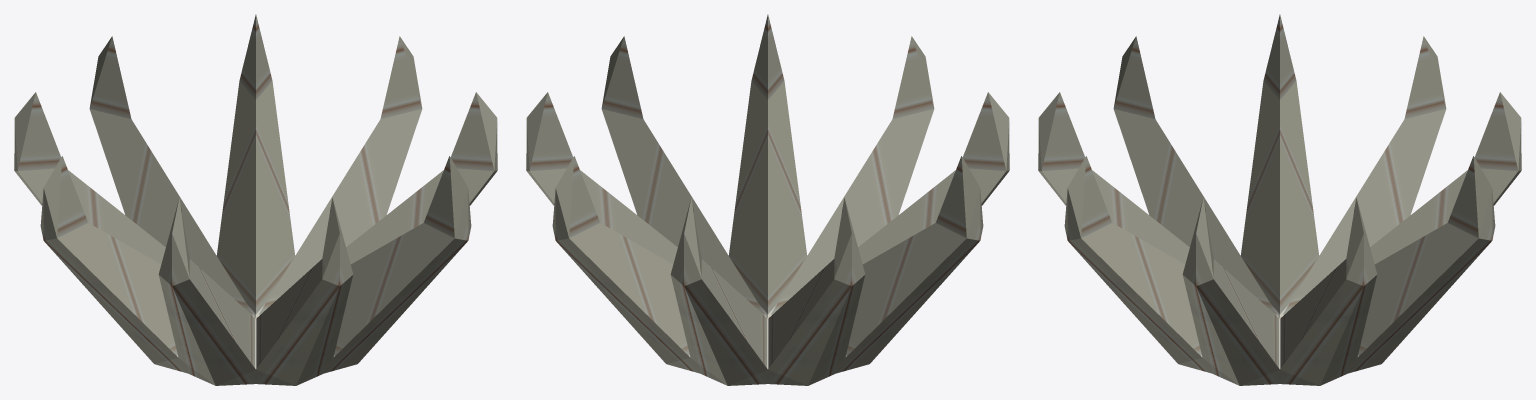
Rendered from KF_SM_XBuilding.fbx.
3 renders of one model, left to right at view 1: azimuth 30°, elevation 25°; view 2: azimuth 150°, elevation 25°; view 3: azimuth 270°, elevation 25°, orthographic.
Visible parts, largest first — view 1: KF_SM_XBuilding; view 2: KF_SM_XBuilding; view 3: KF_SM_XBuilding.
Boxes of the visible parts, <box> form: KF_SM_XBuilding: <box>14,14,497,385</box>; KF_SM_XBuilding: <box>526,14,1009,385</box>; KF_SM_XBuilding: <box>1038,14,1521,385</box>.
Bounding box in the file's own units: 3462 × 1854 × 3516.
